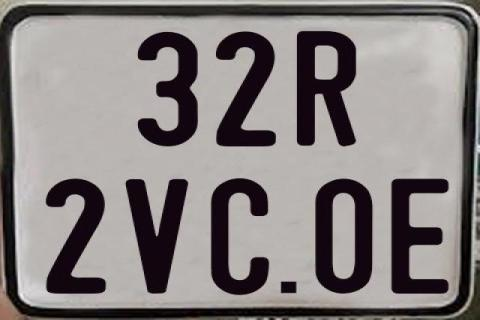0: (138, 32, 200, 150), (216, 31, 278, 148), (44, 177, 104, 297), (314, 177, 372, 292)
C: (211, 177, 275, 299)
E: (388, 177, 452, 293)
R: (294, 29, 354, 144)
V: (123, 179, 190, 297)
